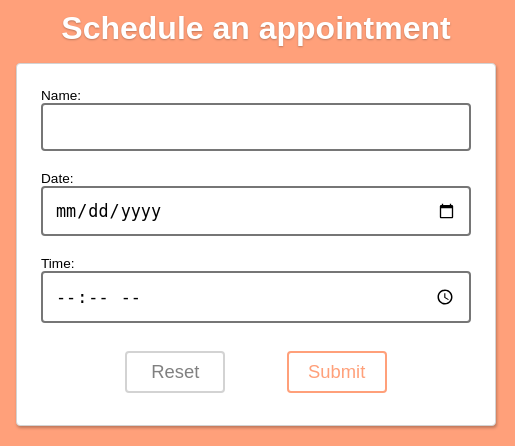
Test case: AppointmentForm › resets the form when reset button is clicked
In the field labelled "Name:": (256, 127) 41,103 -> 471,151, type "John Doe"
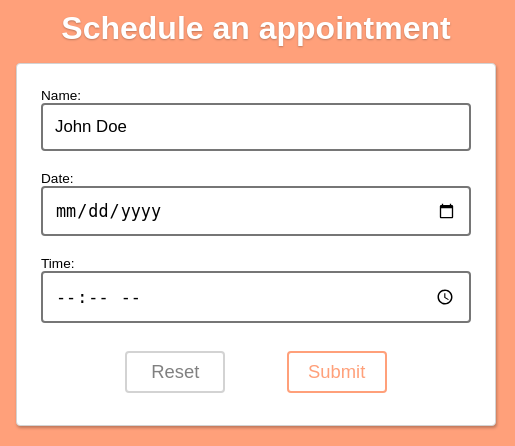
In the date field labelled "Date:": (256, 211) 41,186 -> 471,236, type "2022-01-01"
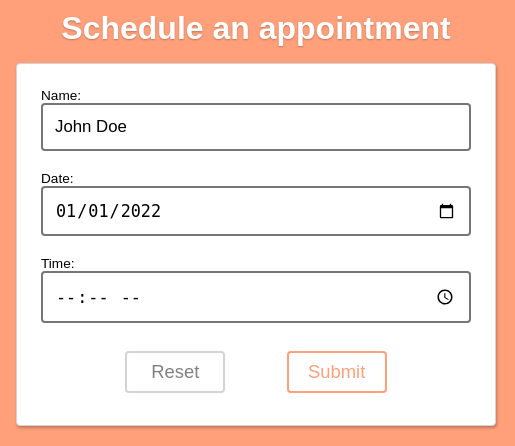
In the time field labelled "Time:": (256, 297) 41,271 -> 471,323, type "14:00"
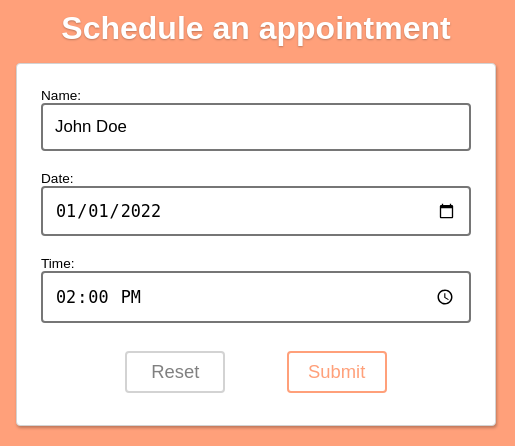
Click the button "Reset": (175, 372) 125,351 -> 225,393
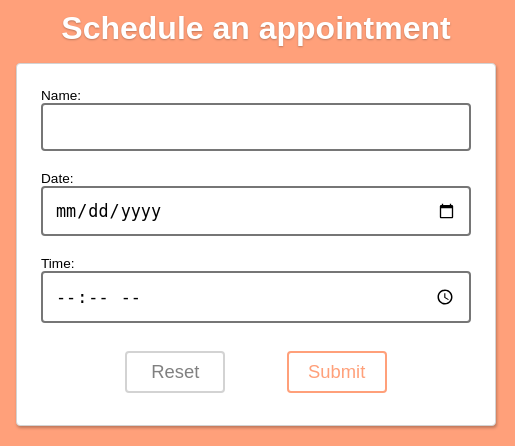
Expected: the field labelled "Name:" is empty, 41,103 -> 471,151
Expected: the date field labelled "Date:" is empty, 41,186 -> 471,236
Expected: the time field labelled "Time:" is empty, 41,271 -> 471,323
